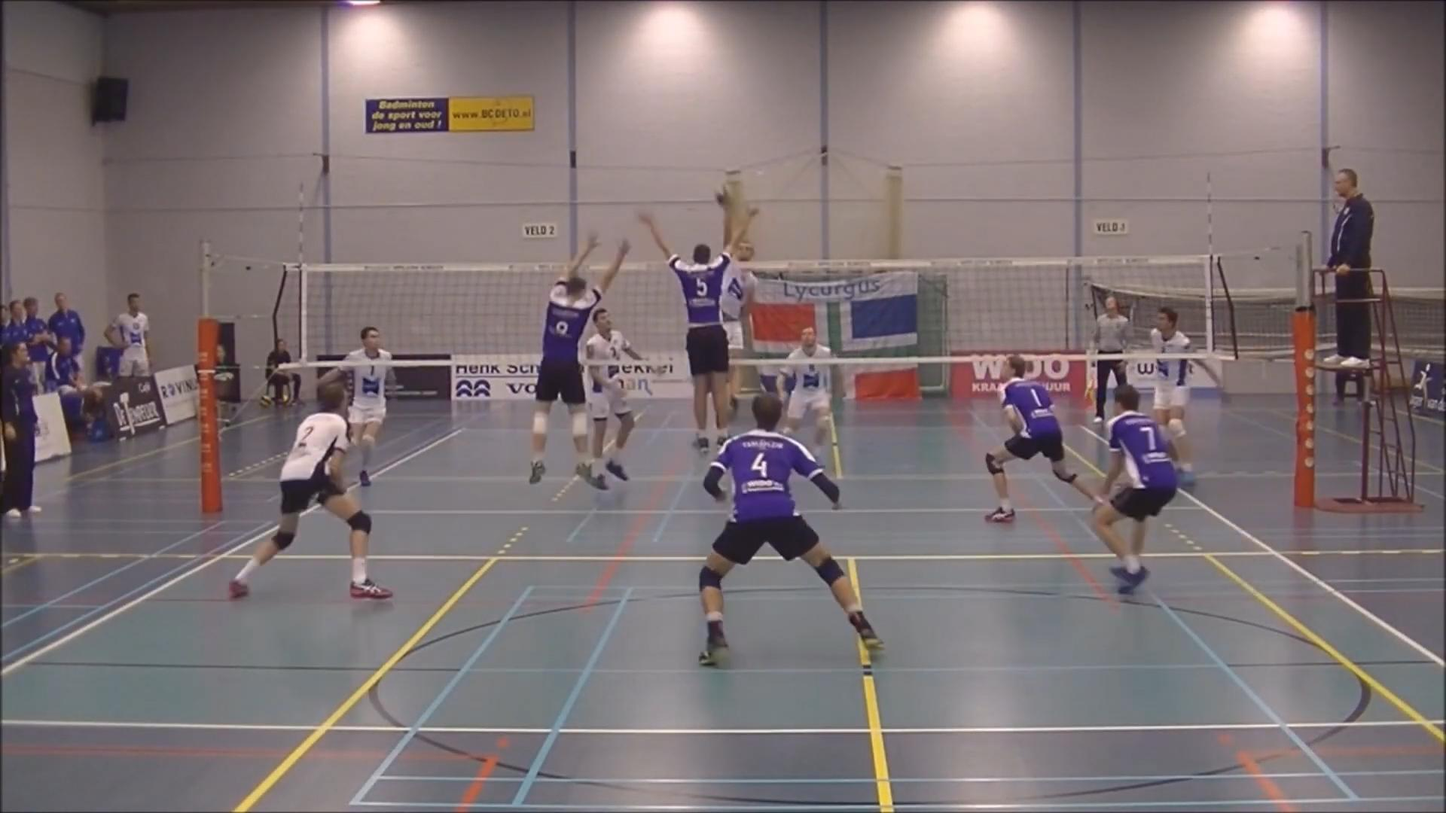Attack: (710, 179, 755, 421)
Block: (514, 225, 630, 502), (637, 201, 743, 479)
Player: (699, 394, 881, 665), (230, 382, 392, 598), (985, 355, 1096, 522), (1093, 385, 1178, 594), (319, 327, 395, 486), (584, 307, 642, 480), (776, 327, 833, 449), (1152, 358, 1194, 486), (105, 293, 151, 376)
ball: (712, 184, 735, 212)
